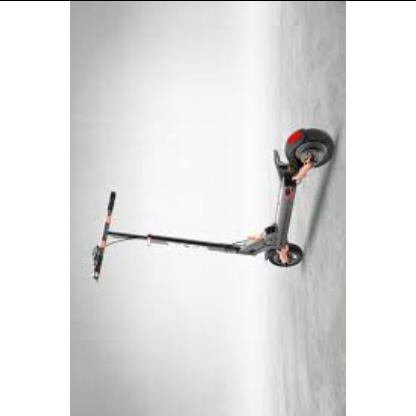bike: (92, 128, 335, 272)
